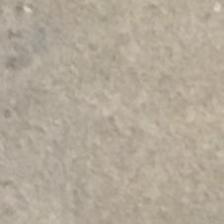Non_Crack: (38, 23, 192, 200)
